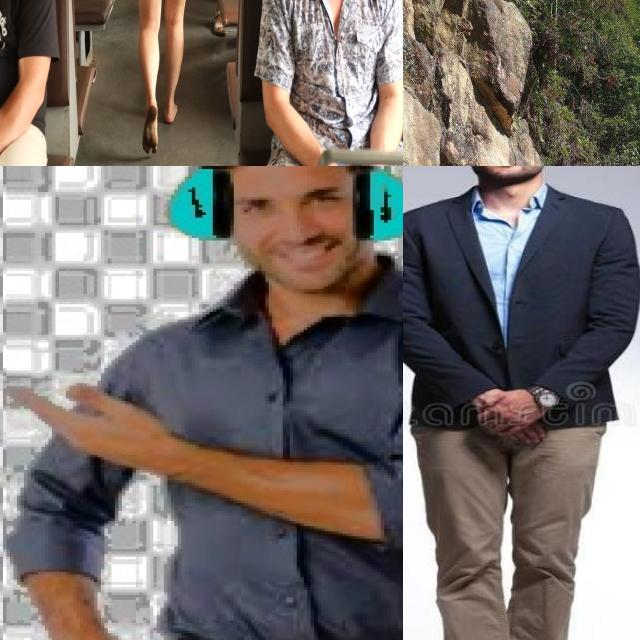Barefoots: (142, 100, 158, 154), (163, 100, 178, 124)
Ear-protection: (128, 166, 403, 252)
No_Ear-Protection: (447, 166, 471, 175)
face_nomask: (481, 166, 543, 173)
hand_noglove: (444, 348, 556, 451)
